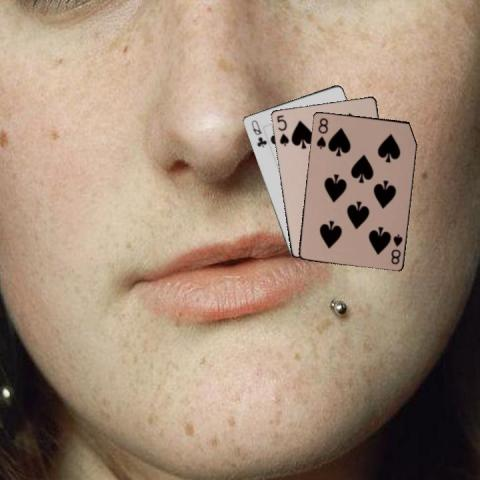5s: (274, 112, 290, 147)
8s: (314, 115, 330, 150), (388, 231, 403, 265)
Qc: (248, 117, 267, 148)
